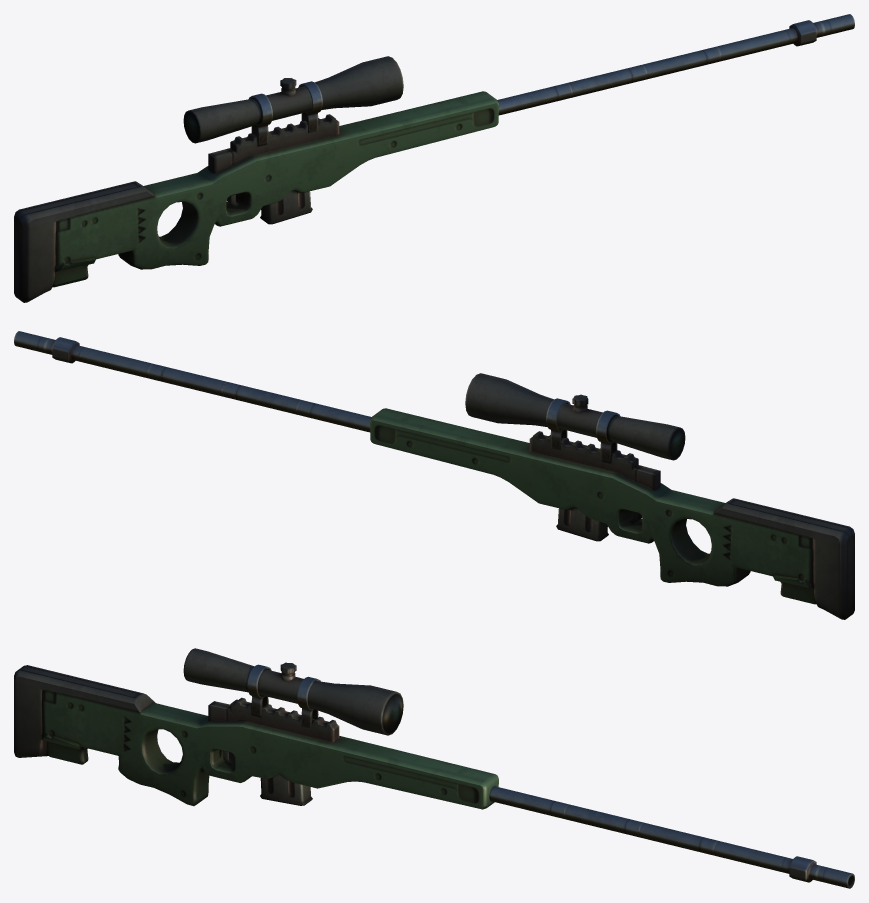
The model's file is bunker47-gun-awp.glb.
The picture shows the model from 3 angles, top to bottom: view 1: azimuth 30°, elevation 25°; view 2: azimuth 150°, elevation 25°; view 3: azimuth 330°, elevation 25°; orthographic projection.
Visible parts, largest first — view 1: awp, sniperscope_low, snipermagazine_low, snipertendon_low, snipertendon_low.001; view 2: awp, sniperscope_low, snipermagazine_low, snipertendon_low, snipertendon_low.001; view 3: awp, sniperscope_low, snipermagazine_low, snipertendon_low, snipertendon_low.001.
Part boxes in pixels (x1=…): awp: x1=14, y1=14, x2=854, y2=302; sniperscope_low: x1=183, y1=56, x2=403, y2=143; snipermagazine_low: x1=260, y1=190, x2=312, y2=224; snipertendon_low: x1=249, y1=93, x2=272, y2=145; snipertendon_low.001: x1=298, y1=81, x2=322, y2=133; awp: x1=14, y1=331, x2=854, y2=619; sniperscope_low: x1=465, y1=373, x2=685, y2=460; snipermagazine_low: x1=556, y1=507, x2=608, y2=541; snipertendon_low: x1=596, y1=410, x2=619, y2=462; snipertendon_low.001: x1=546, y1=398, x2=570, y2=450; awp: x1=14, y1=665, x2=854, y2=888; sniperscope_low: x1=183, y1=648, x2=403, y2=735; snipermagazine_low: x1=260, y1=774, x2=312, y2=805; snipertendon_low: x1=247, y1=664, x2=271, y2=716; snipertendon_low.001: x1=297, y1=676, x2=320, y2=728.
Size of the model in its own units: 1.13 by 0.2043 by 0.0525.
Materials: 1 (1 with a texture image).
